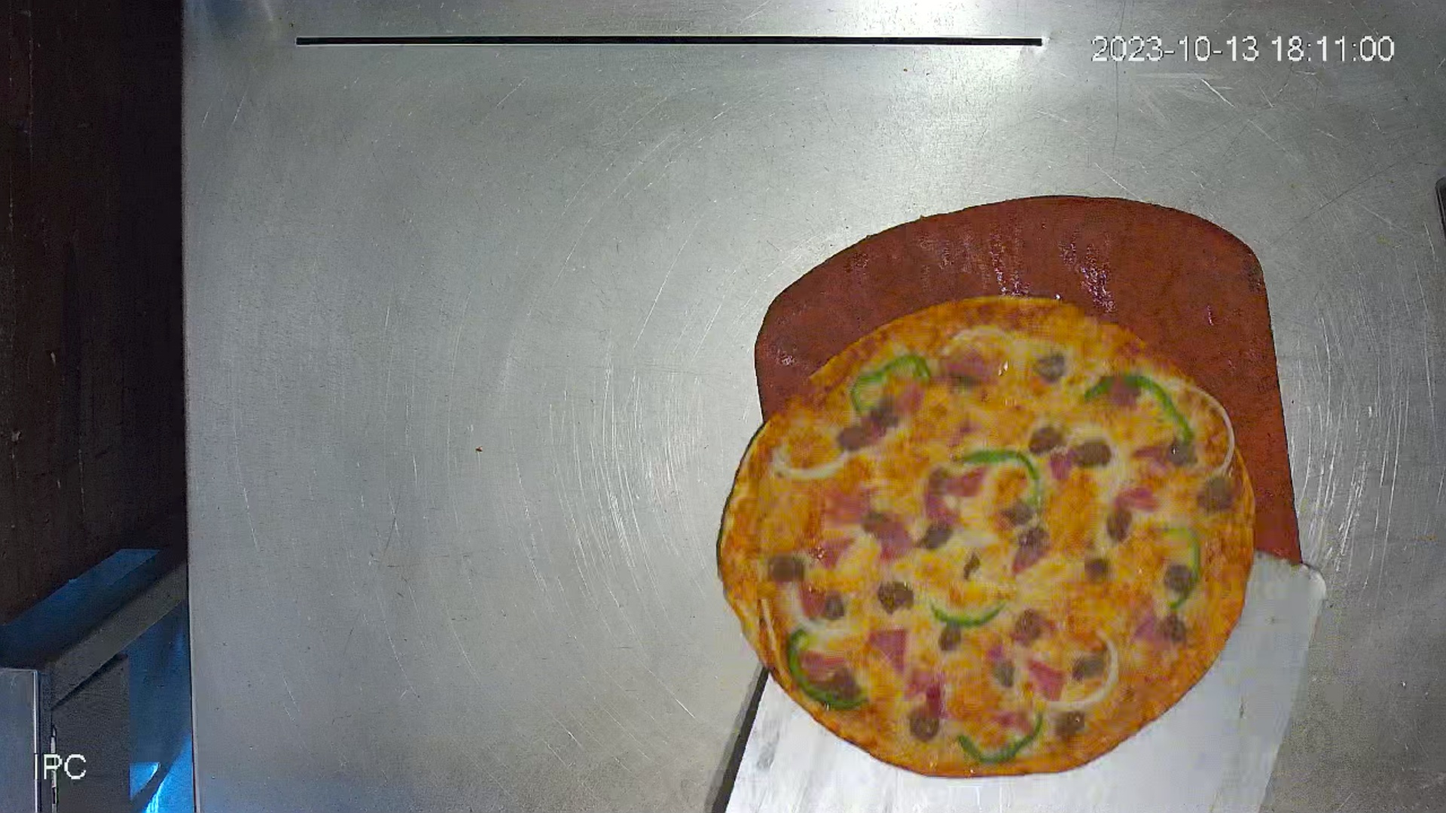manager_choice: (714, 285, 1258, 780)
